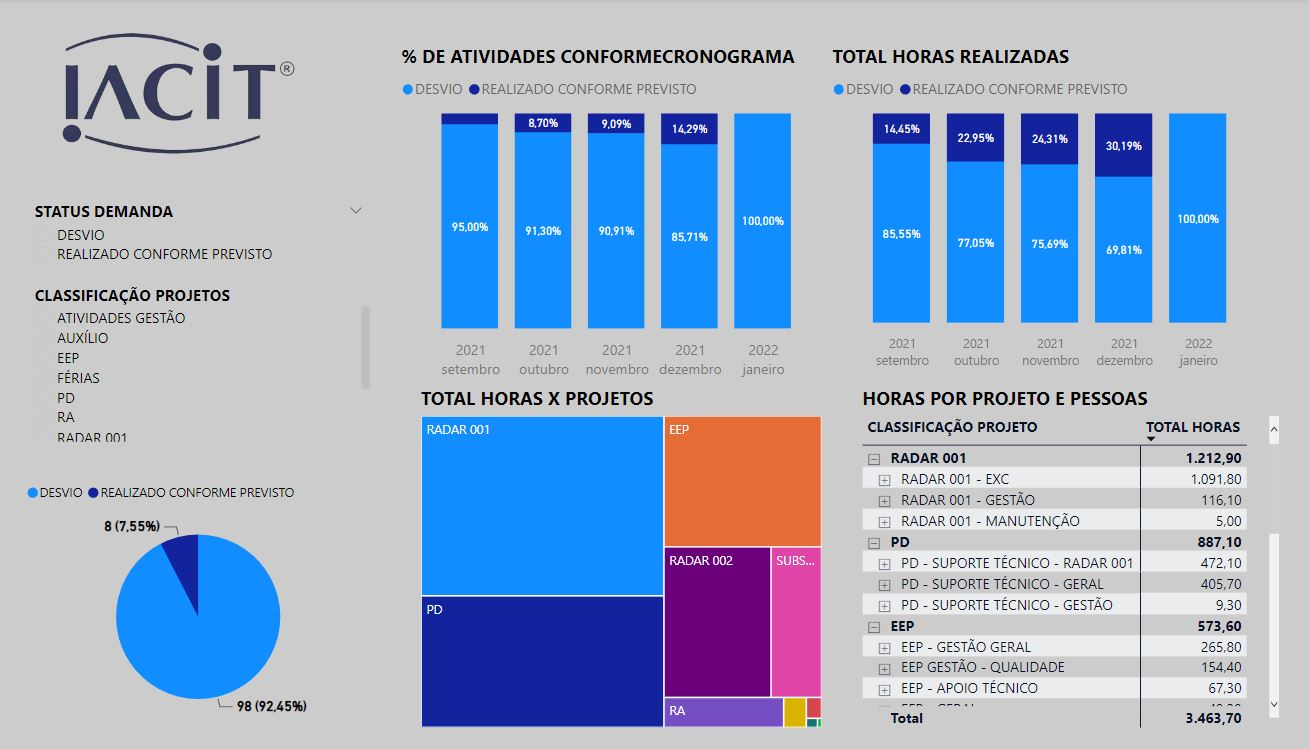

What the dashboard file says about the page in this screenshot:
{"tool":"powerbi","page":{"name":"DESVIOS EQUIPE","canvas":[1280,720],"ordinal":3},"visuals":[{"type":"image","box":[0,9.9,374.3,161.1],"z":0},{"type":"hundredPercentStackedColumnChart","title":"% DE ATIVIDADES CONFORMECRONOGRAMA","fields":{"Y":["Sum(CONSOLIDADO DESVIOS.%Previsto)"],"Series":["CONSOLIDADO DESVIOS.Status_Demanda"],"Category":["CONSOLIDADO DESVIOS.MÊS.Variation.Hierarquia de datas.Ano","CONSOLIDADO DESVIOS.MÊS.Variation.Hierarquia de datas.Mês"]},"box":[394.1,43.4,410.2,325.9],"z":1000},{"type":"hundredPercentStackedColumnChart","title":"TOTAL HORAS REALIZADAS","fields":{"Series":["CONSOLIDADO DESVIOS.Status_Demanda"],"Category":["CONSOLIDADO DESVIOS.MÊS.Variation.Hierarquia de datas.Ano","CONSOLIDADO DESVIOS.MÊS.Variation.Hierarquia de datas.Mês"],"Y":["Sum(CONSOLIDADO DESVIOS.HORAS)"]},"box":[804.3,43.4,415.1,317.2],"z":2000},{"type":"treemap","title":"TOTAL HORAS X PROJETOS","fields":{"Group":["CONSOLIDADO DESVIOS.Classificação Projeto"],"Values":["Sum(CONSOLIDADO DESVIOS.HORAS)"]},"box":[412.7,369.3,391.6,329.6],"z":3000},{"type":"pivotTable","title":"HORAS POR PROJETO E PESSOAS","fields":{"Rows":["CONSOLIDADO DESVIOS.Classificação Projeto","CONSOLIDADO DESVIOS.PROJETO","CONSOLIDADO DESVIOS.FUNCIONÁRIO"],"Values":["Sum(CONSOLIDADO DESVIOS.HORAS)"]},"box":[832.8,369.3,406.5,329.6],"z":4000},{"type":"pieChart","fields":{"Category":["CONSOLIDADO DESVIOS.Status_Demanda"],"Y":["CountNonNull(CONSOLIDADO DESVIOS.Status_Demanda)"]},"box":[37.2,451.1,337.1,247.8],"z":5000},{"type":"slicer","fields":{"Values":["CONSOLIDADO DESVIOS.Classificação Projeto"]},"box":[37.2,266.4,337.1,161.1],"z":6000},{"type":"slicer","fields":{"Values":["CONSOLIDADO DESVIOS.Status_Demanda"]},"box":[37.2,187.1,337.1,79.3],"z":7000}]}

Visuals, with their boxes in screenshot pixels (x1, y1, x2, y2), scaled from the page's 1280x720 canvas onto the 1309x749 screenshot:
image: {"left": 0, "top": 10, "right": 383, "bottom": 178}
"% DE ATIVIDADES CONFORMECRONOGRAMA" hundredPercentStackedColumnChart: {"left": 403, "top": 45, "right": 823, "bottom": 384}
"TOTAL HORAS REALIZADAS" hundredPercentStackedColumnChart: {"left": 823, "top": 45, "right": 1247, "bottom": 375}
"TOTAL HORAS X PROJETOS" treemap: {"left": 422, "top": 384, "right": 823, "bottom": 727}
"HORAS POR PROJETO E PESSOAS" pivotTable: {"left": 852, "top": 384, "right": 1267, "bottom": 727}
pieChart - CONSOLIDADO DESVIOS.Status_Demanda x CountNonNull(CONSOLIDADO DESVIOS.Status_Demanda): {"left": 38, "top": 469, "right": 383, "bottom": 727}
slicer - CONSOLIDADO DESVIOS.Classificação Projeto: {"left": 38, "top": 277, "right": 383, "bottom": 445}
slicer - CONSOLIDADO DESVIOS.Status_Demanda: {"left": 38, "top": 195, "right": 383, "bottom": 277}
